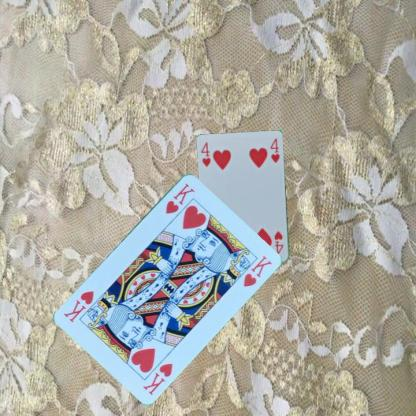4h: (272, 228, 285, 256), (199, 140, 212, 168)
Kh: (140, 360, 174, 396), (163, 180, 196, 215)
